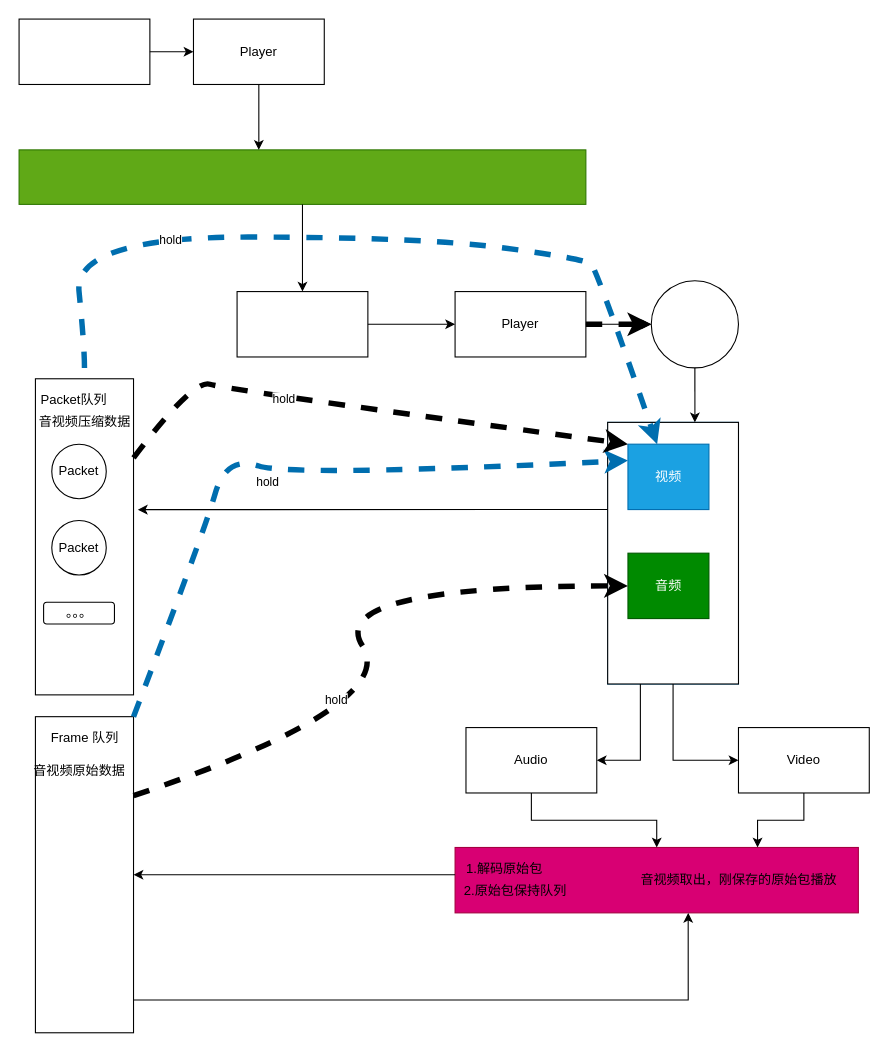
Image size: 888x1052. Some labels were removed from this diagram. Each missing label, with the centre of its shape:
JNI: the point at 302,176
MainActivity: the point at 84,51
natlive-lib: the point at 302,323
解封装: the point at 694,324
